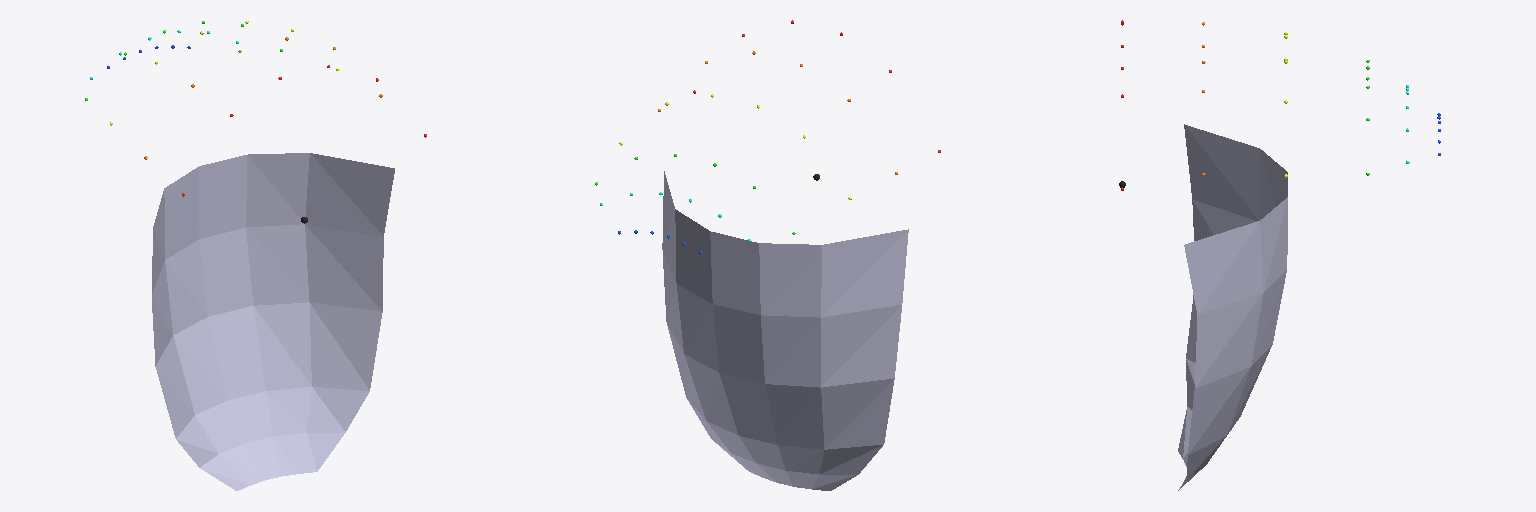
The robot description file, URDF, robot "36_points_robot":
<?xml version="1.0"?>
<robot name="36_points_robot">
  <!-- Base link - center reference point -->
  <link name="base_link">
    <visual>
      <origin xyz="0 0 0" rpy="0 0 0"/>
      <geometry>
        <sphere radius="0.02"/>
      </geometry>
      <material name="black">
        <color rgba="0.2 0.2 0.2 1"/>
      </material>
    </visual>
  </link>

  <!-- Surface mesh link - the triangulated surface containing all 36 points -->
  <link name="surface_link">
    <visual>
      <origin xyz="0 0 0" rpy="-1.57 0 0"/>
      <geometry>
        <mesh filename="package://tactile_viz/meshes/36_points/surface_mesh.STL" scale="10 10 10"/>
      </geometry>
      <material name="surface_material">
        <color rgba="0.8 0.8 0.9 0.7"/>
      </material>
    </visual>
  </link>
  <joint name="surface_joint" type="fixed">
    <parent link="base_link"/><child link="surface_link"/>
    <origin xyz="0 0 0" rpy="0 0 0"/>
  </joint>

  <!-- Row 1: Points 1-6 (Red) - Y=0 -->
  <link name="point_link_1">
    <visual>
      <origin xyz="0 0 0" rpy="0 0 0"/>
      <geometry><sphere radius="0.01"/></geometry>
      <material name="red"><color rgba="1 0.2 0.2 1"/></material>
    </visual>
  </link>
  <joint name="joint_1" type="fixed">
    <parent link="base_link"/><child link="point_link_1"/>
    <origin xyz="0.8060 0.0000 0.3480" rpy="0 0 0"/>
  </joint>

  <link name="point_link_2">
    <visual>
      <origin xyz="0 0 0" rpy="0 0 0"/>
      <geometry><sphere radius="0.01"/></geometry>
      <material name="red"><color rgba="1 0.2 0.2 1"/></material>
    </visual>
  </link>
  <joint name="joint_2" type="fixed">
    <parent link="base_link"/><child link="point_link_2"/>
    <origin xyz="0.4840 0.0000 0.7780" rpy="0 0 0"/>
  </joint>

  <link name="point_link_3">
    <visual>
      <origin xyz="0 0 0" rpy="0 0 0"/>
      <geometry><sphere radius="0.01"/></geometry>
      <material name="red"><color rgba="1 0.2 0.2 1"/></material>
    </visual>
  </link>
  <joint name="joint_3" type="fixed">
    <parent link="base_link"/><child link="point_link_3"/>
    <origin xyz="0.1610 0.0000 0.9380" rpy="0 0 0"/>
  </joint>

  <link name="point_link_4">
    <visual>
      <origin xyz="0 0 0" rpy="0 0 0"/>
      <geometry><sphere radius="0.01"/></geometry>
      <material name="red"><color rgba="1 0.2 0.2 1"/></material>
    </visual>
  </link>
  <joint name="joint_4" type="fixed">
    <parent link="base_link"/><child link="point_link_4"/>
    <origin xyz="-0.1620 0.0000 0.9380" rpy="0 0 0"/>
  </joint>

  <link name="point_link_5">
    <visual>
      <origin xyz="0 0 0" rpy="0 0 0"/>
      <geometry><sphere radius="0.01"/></geometry>
      <material name="red"><color rgba="1 0.2 0.2 1"/></material>
    </visual>
  </link>
  <joint name="joint_5" type="fixed">
    <parent link="base_link"/><child link="point_link_5"/>
    <origin xyz="-0.4840 0.0000 0.7780" rpy="0 0 0"/>
  </joint>

  <link name="point_link_6">
    <visual>
      <origin xyz="0 0 0" rpy="0 0 0"/>
      <geometry><sphere radius="0.01"/></geometry>
      <material name="red"><color rgba="1 0.2 0.2 1"/></material>
    </visual>
  </link>
  <joint name="joint_6" type="fixed">
    <parent link="base_link"/><child link="point_link_6"/>
    <origin xyz="-0.8070 0.0000 0.3480" rpy="0 0 0"/>
  </joint>

  <!-- Row 2: Points 7-12 (Orange) - Y~=45.8mm -->
  <link name="point_link_7">
    <visual>
      <origin xyz="0 0 0" rpy="0 0 0"/>
      <geometry><sphere radius="0.01"/></geometry>
      <material name="orange"><color rgba="1 0.6 0.2 1"/></material>
    </visual>
  </link>
  <joint name="joint_7" type="fixed">
    <parent link="base_link"/><child link="point_link_7"/>
    <origin xyz="0.7730 0.4580 0.4240" rpy="0 0 0"/>
  </joint>

  <link name="point_link_8">
    <visual>
      <origin xyz="0 0 0" rpy="0 0 0"/>
      <geometry><sphere radius="0.01"/></geometry>
      <material name="orange"><color rgba="1 0.6 0.2 1"/></material>
    </visual>
  </link>
  <joint name="joint_8" type="fixed">
    <parent link="base_link"/><child link="point_link_8"/>
    <origin xyz="0.4640 0.4580 0.7980" rpy="0 0 0"/>
  </joint>

  <link name="point_link_9">
    <visual>
      <origin xyz="0 0 0" rpy="0 0 0"/>
      <geometry><sphere radius="0.01"/></geometry>
      <material name="orange"><color rgba="1 0.6 0.2 1"/></material>
    </visual>
  </link>
  <joint name="joint_9" type="fixed">
    <parent link="base_link"/><child link="point_link_9"/>
    <origin xyz="0.1480 0.4590 0.9320" rpy="0 0 0"/>
  </joint>

  <link name="point_link_10">
    <visual>
      <origin xyz="0 0 0" rpy="0 0 0"/>
      <geometry><sphere radius="0.01"/></geometry>
      <material name="orange"><color rgba="1 0.6 0.2 1"/></material>
    </visual>
  </link>
  <joint name="joint_10" type="fixed">
    <parent link="base_link"/><child link="point_link_10"/>
    <origin xyz="-0.1650 0.4590 0.9260" rpy="0 0 0"/>
  </joint>

  <link name="point_link_11">
    <visual>
      <origin xyz="0 0 0" rpy="0 0 0"/>
      <geometry><sphere radius="0.01"/></geometry>
      <material name="orange"><color rgba="1 0.6 0.2 1"/></material>
    </visual>
  </link>
  <joint name="joint_11" type="fixed">
    <parent link="base_link"/><child link="point_link_11"/>
    <origin xyz="-0.4780 0.4590 0.7800" rpy="0 0 0"/>
  </joint>

  <link name="point_link_12">
    <visual>
      <origin xyz="0 0 0" rpy="0 0 0"/>
      <geometry><sphere radius="0.01"/></geometry>
      <material name="orange"><color rgba="1 0.6 0.2 1"/></material>
    </visual>
  </link>
  <joint name="joint_12" type="fixed">
    <parent link="base_link"/><child link="point_link_12"/>
    <origin xyz="-0.7910 0.4600 0.3940" rpy="0 0 0"/>
  </joint>

  <!-- Row 3: Points 13-18 (Yellow) - Y~=92.5mm -->
  <link name="point_link_13">
    <visual>
      <origin xyz="0 0 0" rpy="0 0 0"/>
      <geometry><sphere radius="0.01"/></geometry>
      <material name="yellow"><color rgba="1 1 0.2 1"/></material>
    </visual>
  </link>
  <joint name="joint_13" type="fixed">
    <parent link="base_link"/><child link="point_link_13"/>
    <origin xyz="0.7560 0.9250 0.4070" rpy="0 0 0"/>
  </joint>

  <link name="point_link_14">
    <visual>
      <origin xyz="0 0 0" rpy="0 0 0"/>
      <geometry><sphere radius="0.01"/></geometry>
      <material name="yellow"><color rgba="1 1 0.2 1"/></material>
    </visual>
  </link>
  <joint name="joint_14" type="fixed">
    <parent link="base_link"/><child link="point_link_14"/>
    <origin xyz="0.4540 0.9250 0.7280" rpy="0 0 0"/>
  </joint>

  <link name="point_link_15">
    <visual>
      <origin xyz="0 0 0" rpy="0 0 0"/>
      <geometry><sphere radius="0.01"/></geometry>
      <material name="yellow"><color rgba="1 1 0.2 1"/></material>
    </visual>
  </link>
  <joint name="joint_15" type="fixed">
    <parent link="base_link"/><child link="point_link_15"/>
    <origin xyz="0.1520 0.9250 0.8500" rpy="0 0 0"/>
  </joint>

  <link name="point_link_16">
    <visual>
      <origin xyz="0 0 0" rpy="0 0 0"/>
      <geometry><sphere radius="0.01"/></geometry>
      <material name="yellow"><color rgba="1 1 0.2 1"/></material>
    </visual>
  </link>
  <joint name="joint_16" type="fixed">
    <parent link="base_link"/><child link="point_link_16"/>
    <origin xyz="-0.1500 0.9250 0.8510" rpy="0 0 0"/>
  </joint>

  <link name="point_link_17">
    <visual>
      <origin xyz="0 0 0" rpy="0 0 0"/>
      <geometry><sphere radius="0.01"/></geometry>
      <material name="yellow"><color rgba="1 1 0.2 1"/></material>
    </visual>
  </link>
  <joint name="joint_17" type="fixed">
    <parent link="base_link"/><child link="point_link_17"/>
    <origin xyz="-0.4510 0.9250 0.7320" rpy="0 0 0"/>
  </joint>

  <link name="point_link_18">
    <visual>
      <origin xyz="0 0 0" rpy="0 0 0"/>
      <geometry><sphere radius="0.01"/></geometry>
      <material name="yellow"><color rgba="1 1 0.2 1"/></material>
    </visual>
  </link>
  <joint name="joint_18" type="fixed">
    <parent link="base_link"/><child link="point_link_18"/>
    <origin xyz="-0.7530 0.9250 0.4140" rpy="0 0 0"/>
  </joint>

  <!-- Row 4: Points 19-24 (Green) - Y~=138.9mm -->
  <link name="point_link_19">
    <visual>
      <origin xyz="0 0 0" rpy="0 0 0"/>
      <geometry><sphere radius="0.01"/></geometry>
      <material name="green"><color rgba="0.2 1 0.2 1"/></material>
    </visual>
  </link>
  <joint name="joint_19" type="fixed">
    <parent link="base_link"/><child link="point_link_19"/>
    <origin xyz="0.6490 1.3890 0.3670" rpy="0 0 0"/>
  </joint>

  <link name="point_link_20">
    <visual>
      <origin xyz="0 0 0" rpy="0 0 0"/>
      <geometry><sphere radius="0.01"/></geometry>
      <material name="green"><color rgba="0.2 1 0.2 1"/></material>
    </visual>
  </link>
  <joint name="joint_20" type="fixed">
    <parent link="base_link"/><child link="point_link_20"/>
    <origin xyz="0.3890 1.3890 0.5870" rpy="0 0 0"/>
  </joint>

  <link name="point_link_21">
    <visual>
      <origin xyz="0 0 0" rpy="0 0 0"/>
      <geometry><sphere radius="0.01"/></geometry>
      <material name="green"><color rgba="0.2 1 0.2 1"/></material>
    </visual>
  </link>
  <joint name="joint_21" type="fixed">
    <parent link="base_link"/><child link="point_link_21"/>
    <origin xyz="0.1290 1.3890 0.6670" rpy="0 0 0"/>
  </joint>

  <link name="point_link_22">
    <visual>
      <origin xyz="0 0 0" rpy="0 0 0"/>
      <geometry><sphere radius="0.01"/></geometry>
      <material name="green"><color rgba="0.2 1 0.2 1"/></material>
    </visual>
  </link>
  <joint name="joint_22" type="fixed">
    <parent link="base_link"/><child link="point_link_22"/>
    <origin xyz="-0.1300 1.3890 0.6670" rpy="0 0 0"/>
  </joint>

  <link name="point_link_23">
    <visual>
      <origin xyz="0 0 0" rpy="0 0 0"/>
      <geometry><sphere radius="0.01"/></geometry>
      <material name="green"><color rgba="0.2 1 0.2 1"/></material>
    </visual>
  </link>
  <joint name="joint_23" type="fixed">
    <parent link="base_link"/><child link="point_link_23"/>
    <origin xyz="-0.3900 1.3890 0.5870" rpy="0 0 0"/>
  </joint>

  <link name="point_link_24">
    <visual>
      <origin xyz="0 0 0" rpy="0 0 0"/>
      <geometry><sphere radius="0.01"/></geometry>
      <material name="green"><color rgba="0.2 1 0.2 1"/></material>
    </visual>
  </link>
  <joint name="joint_24" type="fixed">
    <parent link="base_link"/><child link="point_link_24"/>
    <origin xyz="-0.6510 1.3880 0.3570" rpy="0 0 0"/>
  </joint>

  <!-- Row 5: Points 25-30 (Cyan) - Y~=161.3mm -->
  <link name="point_link_25">
    <visual>
      <origin xyz="0 0 0" rpy="0 0 0"/>
      <geometry><sphere radius="0.01"/></geometry>
      <material name="cyan"><color rgba="0.2 1 1 1"/></material>
    </visual>
  </link>
  <joint name="joint_25" type="fixed">
    <parent link="base_link"/><child link="point_link_25"/>
    <origin xyz="0.4860 1.6140 0.3650" rpy="0 0 0"/>
  </joint>

  <link name="point_link_26">
    <visual>
      <origin xyz="0 0 0" rpy="0 0 0"/>
      <geometry><sphere radius="0.01"/></geometry>
      <material name="cyan"><color rgba="0.2 1 1 1"/></material>
    </visual>
  </link>
  <joint name="joint_26" type="fixed">
    <parent link="base_link"/><child link="point_link_26"/>
    <origin xyz="0.2910 1.6130 0.4750" rpy="0 0 0"/>
  </joint>

  <link name="point_link_27">
    <visual>
      <origin xyz="0 0 0" rpy="0 0 0"/>
      <geometry><sphere radius="0.01"/></geometry>
      <material name="cyan"><color rgba="0.2 1 1 1"/></material>
    </visual>
  </link>
  <joint name="joint_27" type="fixed">
    <parent link="base_link"/><child link="point_link_27"/>
    <origin xyz="0.0960 1.6130 0.5250" rpy="0 0 0"/>
  </joint>

  <link name="point_link_28">
    <visual>
      <origin xyz="0 0 0" rpy="0 0 0"/>
      <geometry><sphere radius="0.01"/></geometry>
      <material name="cyan"><color rgba="0.2 1 1 1"/></material>
    </visual>
  </link>
  <joint name="joint_28" type="fixed">
    <parent link="base_link"/><child link="point_link_28"/>
    <origin xyz="-0.0990 1.6130 0.5250" rpy="0 0 0"/>
  </joint>

  <link name="point_link_29">
    <visual>
      <origin xyz="0 0 0" rpy="0 0 0"/>
      <geometry><sphere radius="0.01"/></geometry>
      <material name="cyan"><color rgba="0.2 1 1 1"/></material>
    </visual>
  </link>
  <joint name="joint_29" type="fixed">
    <parent link="base_link"/><child link="point_link_29"/>
    <origin xyz="-0.2930 1.6130 0.4750" rpy="0 0 0"/>
  </joint>

  <link name="point_link_30">
    <visual>
      <origin xyz="0 0 0" rpy="0 0 0"/>
      <geometry><sphere radius="0.01"/></geometry>
      <material name="cyan"><color rgba="0.2 1 1 1"/></material>
    </visual>
  </link>
  <joint name="joint_30" type="fixed">
    <parent link="base_link"/><child link="point_link_30"/>
    <origin xyz="-0.4880 1.6120 0.3650" rpy="0 0 0"/>
  </joint>

  <!-- Row 6: Points 31-36 (Blue) - Y~=179.2mm (tip) -->
  <link name="point_link_31">
    <visual>
      <origin xyz="0 0 0" rpy="0 0 0"/>
      <geometry><sphere radius="0.01"/></geometry>
      <material name="blue"><color rgba="0.2 0.4 1 1"/></material>
    </visual>
  </link>
  <joint name="joint_31" type="fixed">
    <parent link="base_link"/><child link="point_link_31"/>
    <origin xyz="0.2660 1.7920 0.3110" rpy="0 0 0"/>
  </joint>

  <link name="point_link_32">
    <visual>
      <origin xyz="0 0 0" rpy="0 0 0"/>
      <geometry><sphere radius="0.01"/></geometry>
      <material name="blue"><color rgba="0.2 0.4 1 1"/></material>
    </visual>
  </link>
  <joint name="joint_32" type="fixed">
    <parent link="base_link"/><child link="point_link_32"/>
    <origin xyz="0.1580 1.7920 0.3410" rpy="0 0 0"/>
  </joint>

  <link name="point_link_33">
    <visual>
      <origin xyz="0 0 0" rpy="0 0 0"/>
      <geometry><sphere radius="0.01"/></geometry>
      <material name="blue"><color rgba="0.2 0.4 1 1"/></material>
    </visual>
  </link>
  <joint name="joint_33" type="fixed">
    <parent link="base_link"/><child link="point_link_33"/>
    <origin xyz="0.0510 1.7920 0.3610" rpy="0 0 0"/>
  </joint>

  <link name="point_link_34">
    <visual>
      <origin xyz="0 0 0" rpy="0 0 0"/>
      <geometry><sphere radius="0.01"/></geometry>
      <material name="blue"><color rgba="0.2 0.4 1 1"/></material>
    </visual>
  </link>
  <joint name="joint_34" type="fixed">
    <parent link="base_link"/><child link="point_link_34"/>
    <origin xyz="-0.0560 1.7920 0.3610" rpy="0 0 0"/>
  </joint>

  <link name="point_link_35">
    <visual>
      <origin xyz="0 0 0" rpy="0 0 0"/>
      <geometry><sphere radius="0.01"/></geometry>
      <material name="blue"><color rgba="0.2 0.4 1 1"/></material>
    </visual>
  </link>
  <joint name="joint_35" type="fixed">
    <parent link="base_link"/><child link="point_link_35"/>
    <origin xyz="-0.1630 1.7910 0.3410" rpy="0 0 0"/>
  </joint>

  <link name="point_link_36">
    <visual>
      <origin xyz="0 0 0" rpy="0 0 0"/>
      <geometry><sphere radius="0.01"/></geometry>
      <material name="blue"><color rgba="0.2 0.4 1 1"/></material>
    </visual>
  </link>
  <joint name="joint_36" type="fixed">
    <parent link="base_link"/><child link="point_link_36"/>
    <origin xyz="-0.2700 1.7910 0.3110" rpy="0 0 0"/>
  </joint>

</robot>

--- Render facts (derived) ---
3 views of the same robot in one strip: view 1: azimuth 30°, elevation 25°; view 2: azimuth 150°, elevation 25°; view 3: azimuth 270°, elevation 25° (orthographic).
Robot: 36_points_robot — 38 links, 37 joints (37 fixed); root link base_link; default pose: every joint at zero.
Links seen in each view (by area): view 1: surface_link; view 2: surface_link; view 3: surface_link.
Link boxes in pixels (box(x1,y1,x2,y2)): surface_link: box(152, 153, 394, 490); surface_link: box(662, 171, 908, 490); surface_link: box(1178, 124, 1287, 490).
Size in the robot's own frame: 1.63 by 1.82 by 2.74 metres.
Meshes: 1 distinct files referenced, 1 mesh visuals loaded (1 ASCII STL).
